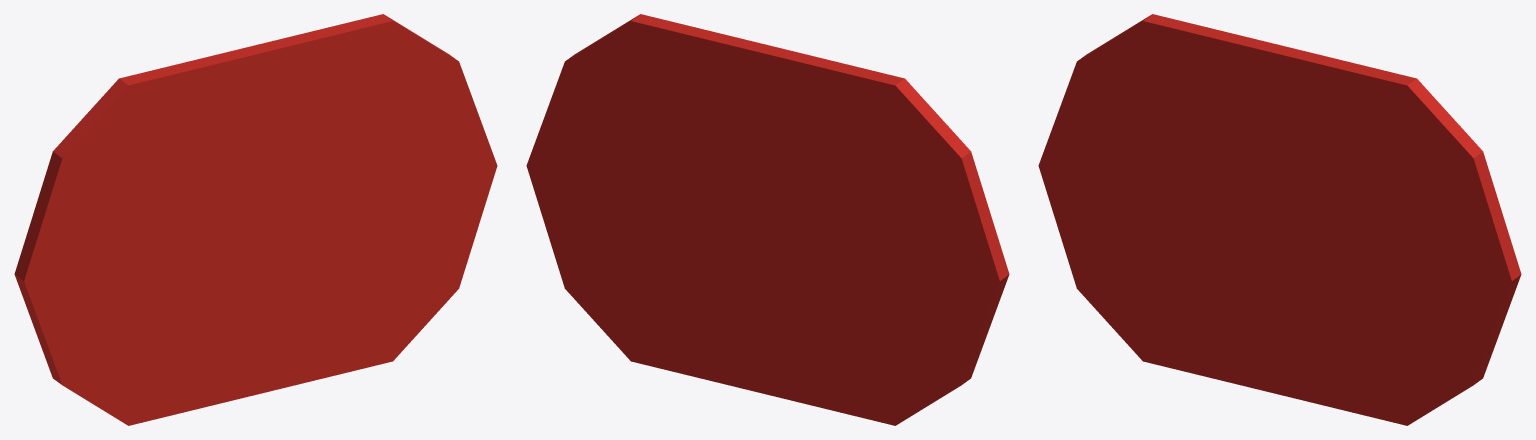
The model's file is cherryTomatoInside.obj.
3 renders of one model, left to right at view 1: azimuth 30°, elevation 25°; view 2: azimuth 150°, elevation 25°; view 3: azimuth 330°, elevation 25°, orthographic.
Visible parts, largest first — view 1: tomato.003; view 2: tomato.003; view 3: tomato.003.
Boxes of the visible parts, x1,y1,x2,y2 form: tomato.003: (14, 14, 497, 425); tomato.003: (526, 14, 1009, 425); tomato.003: (1038, 14, 1521, 425).
Size of the model in its own units: 0.0722 by 0.0496 by 0.00253.
